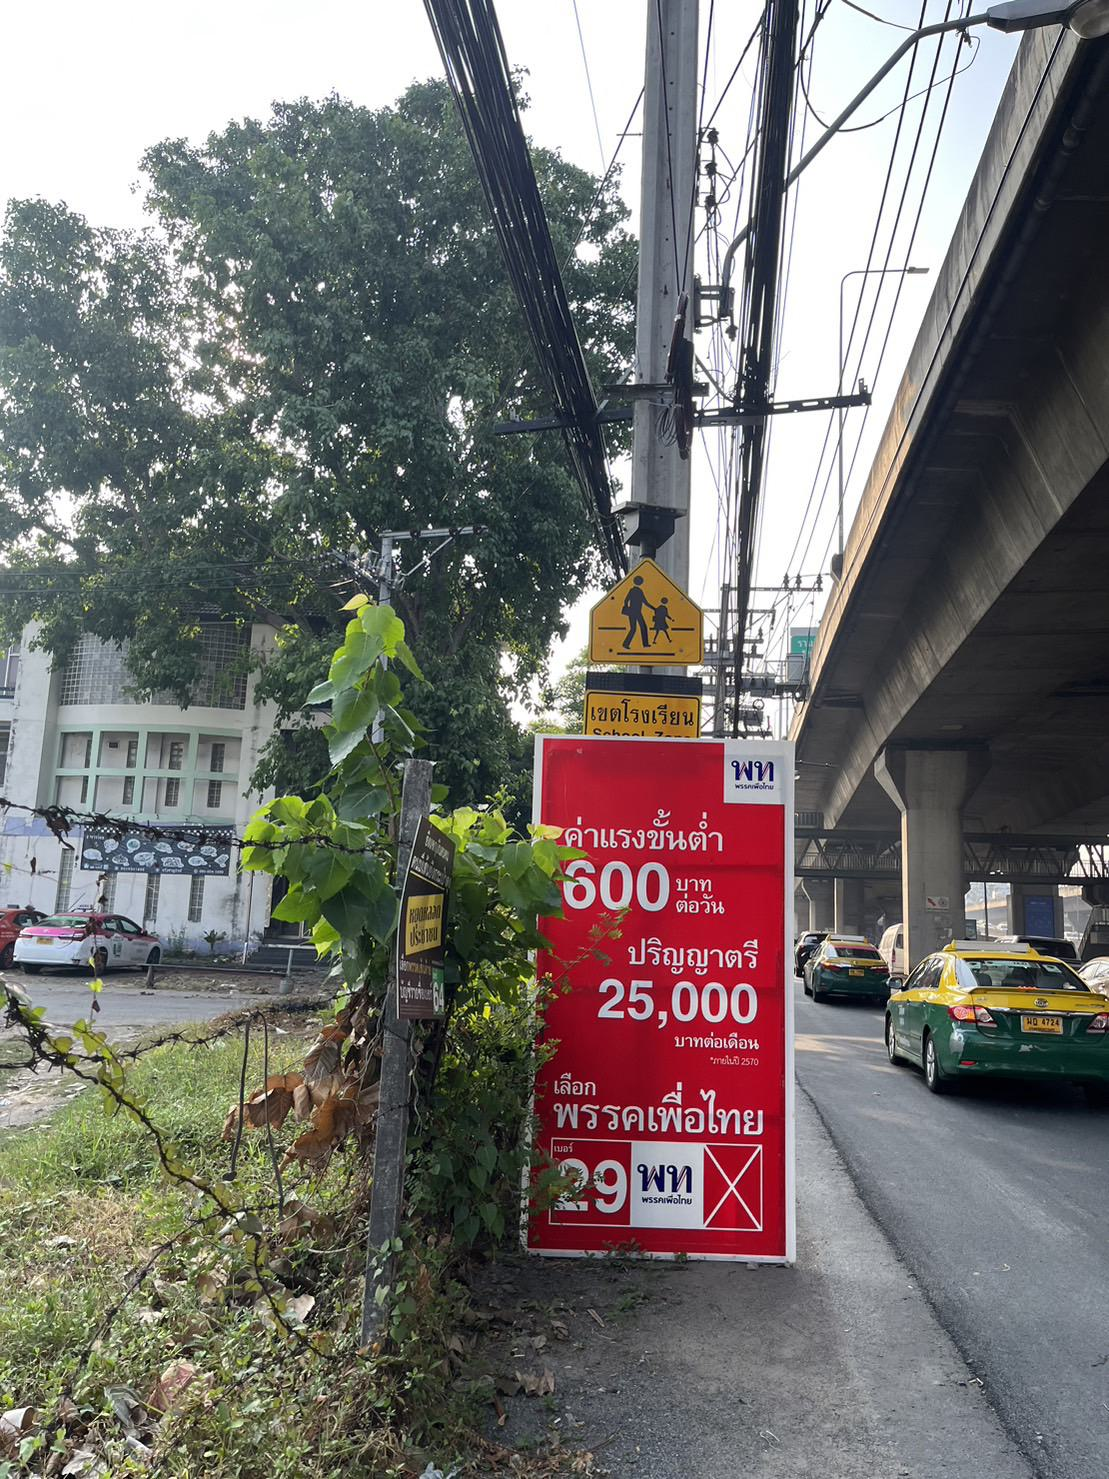Banner: (534, 730, 799, 1267)
